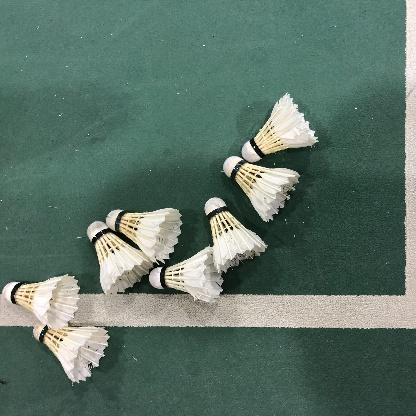ball_single: (241, 93, 319, 163), (223, 156, 300, 222), (87, 221, 153, 295), (204, 197, 267, 273), (33, 322, 109, 383), (2, 275, 80, 330), (106, 208, 182, 263), (149, 247, 224, 302)
